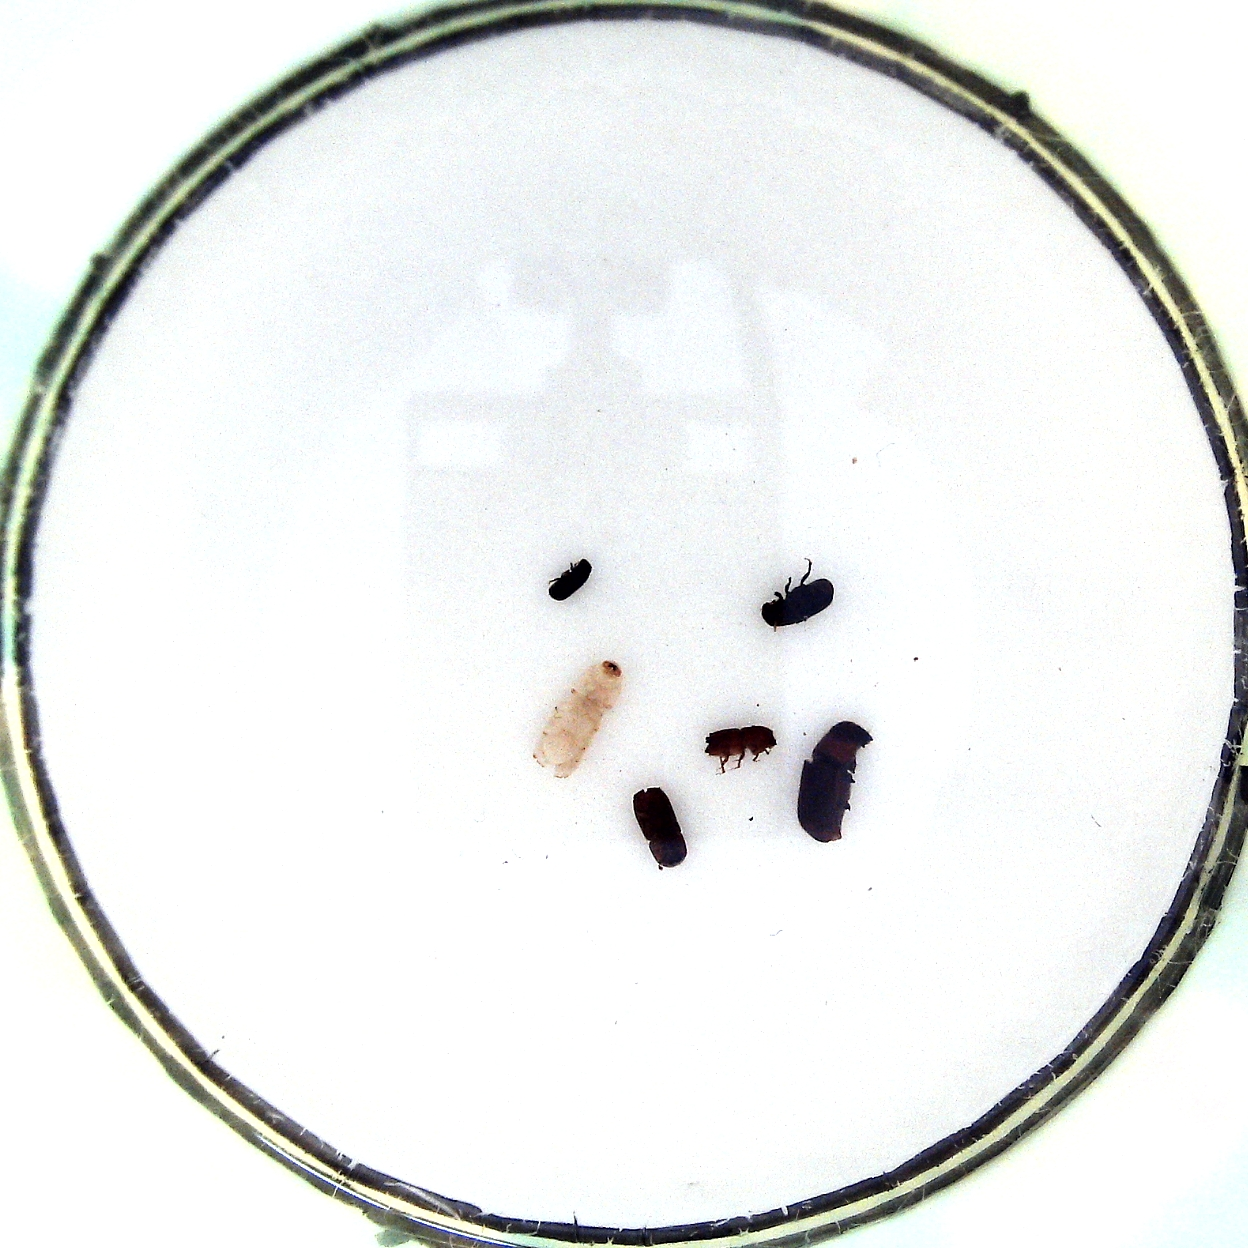Boerner: (533, 655, 627, 784)
Leconte: (792, 719, 873, 846)
Linnaeus: (630, 787, 691, 869)
acuminatus: (702, 720, 779, 773)
armandi: (759, 553, 835, 629)
coleoptera: (543, 555, 595, 610)
